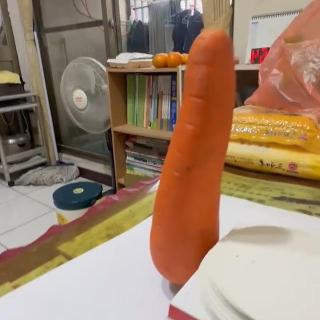carrot: (150, 26, 233, 286)
